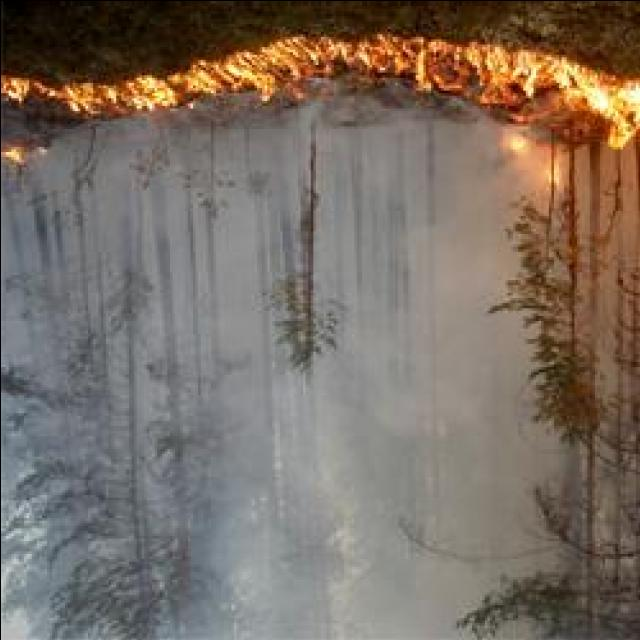fire: (476, 51, 634, 122), (264, 34, 450, 77), (109, 59, 238, 112), (0, 74, 27, 172)
smoke: (2, 156, 96, 246)
